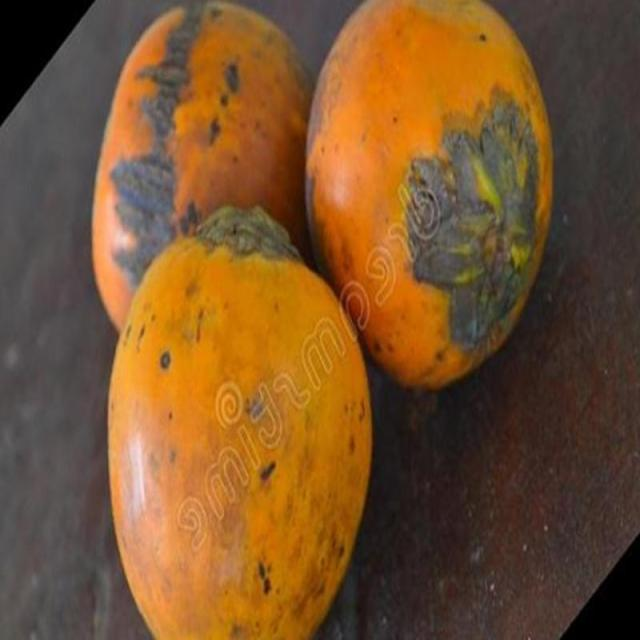good: (106, 203, 374, 639), (303, 0, 554, 392), (90, 7, 298, 332), (128, 5, 314, 266)
